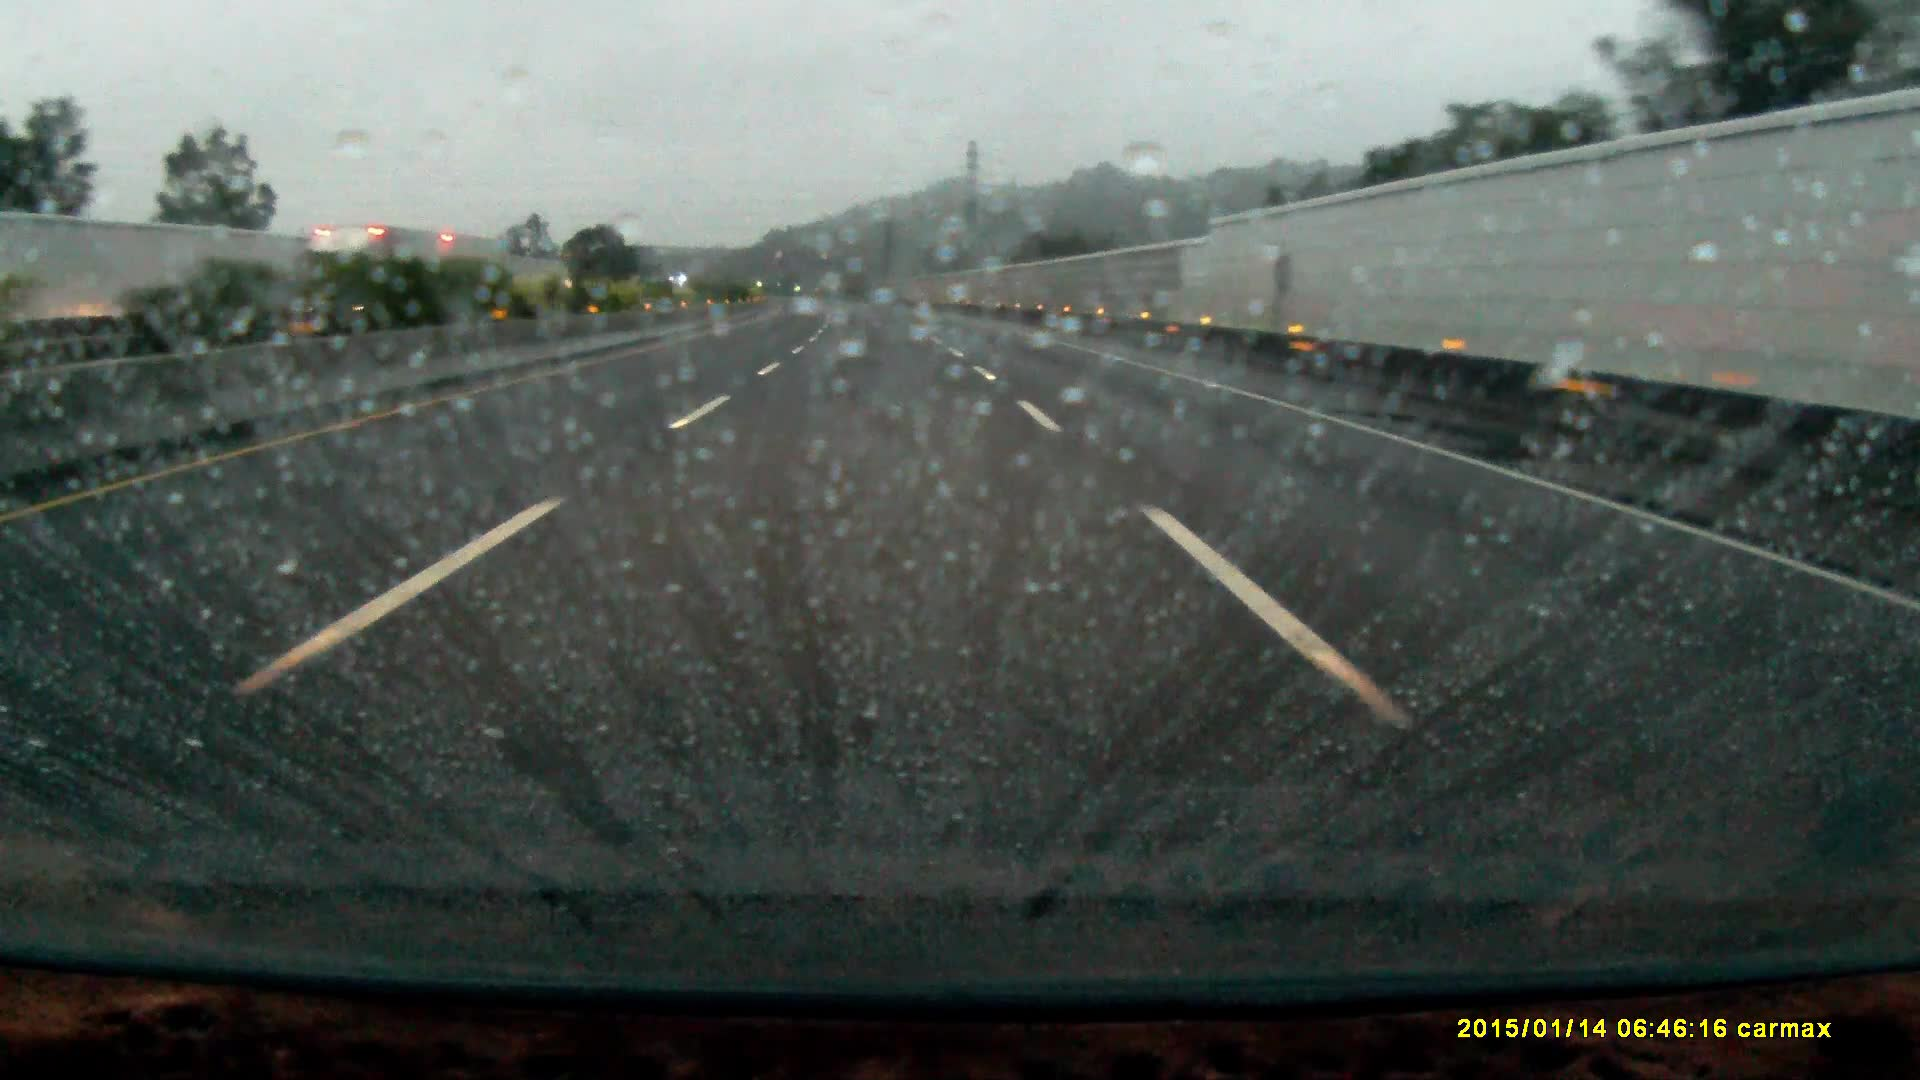vehicle: (287, 225, 496, 326)
